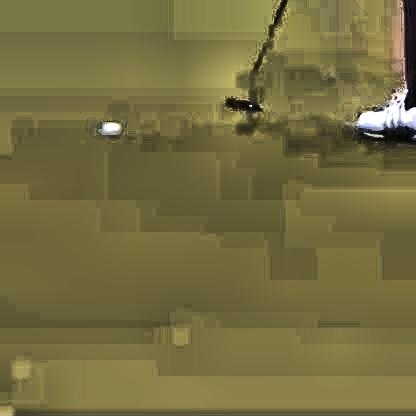golfball: (99, 119, 119, 134)
